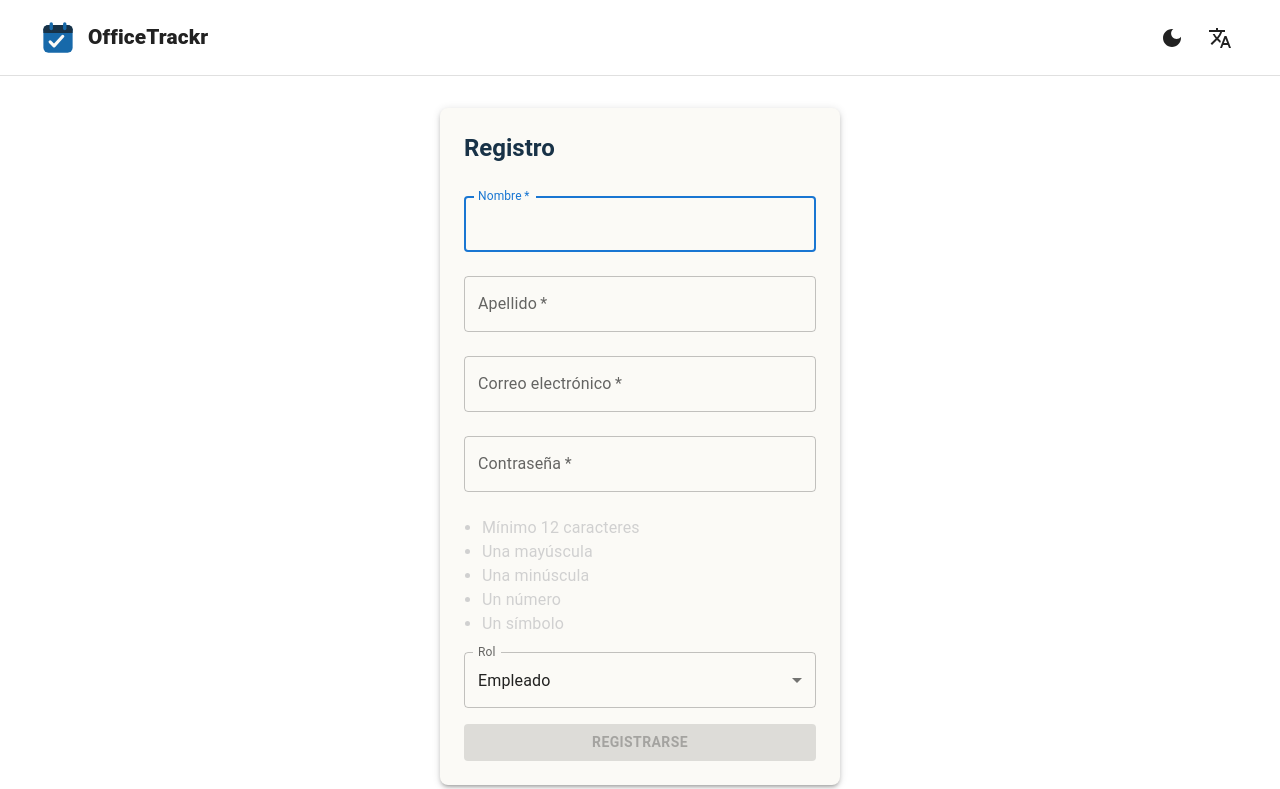
Test: Register › shows a mapped error message for a duplicate email (EM003)
This screenshot has width=1280, height=789.
In the field labelled "Nombre *": (640, 224) [464, 196, 816, 252], type "John"
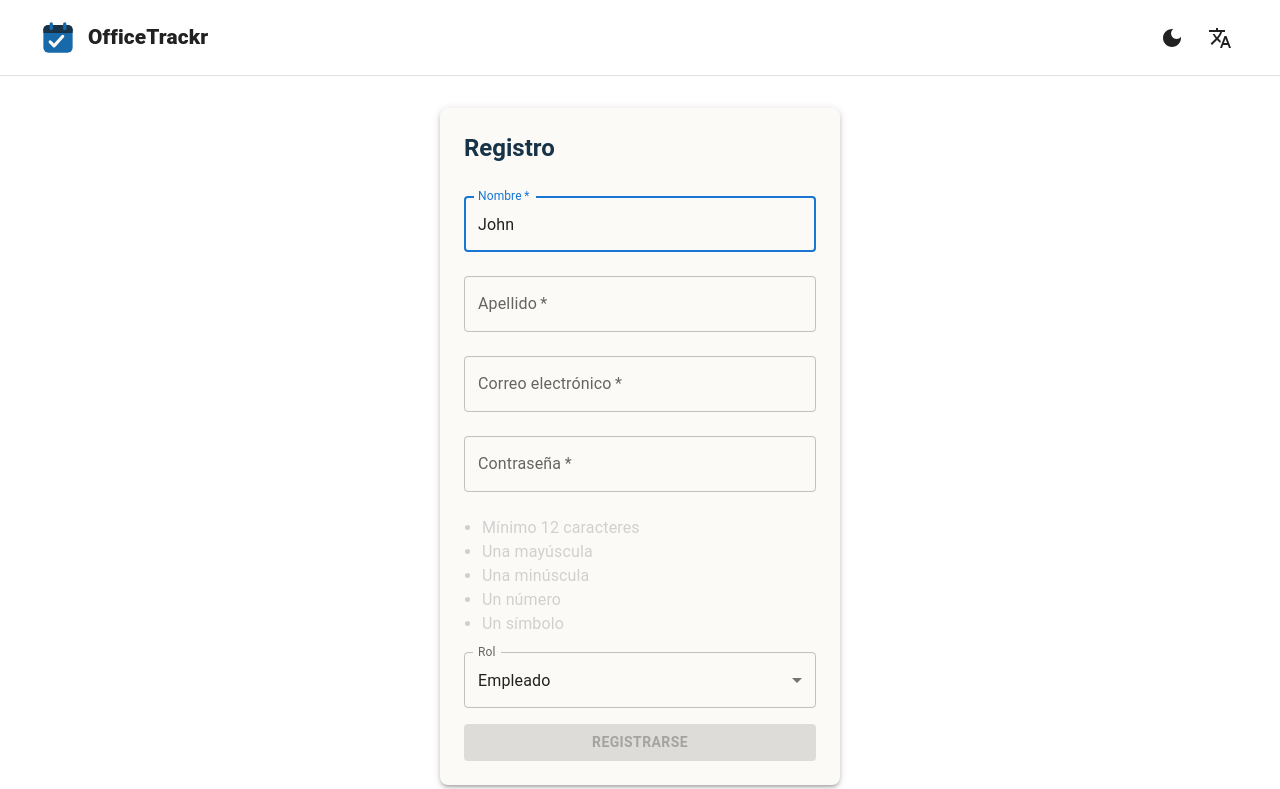
In the field labelled "Apellido *": (640, 304) [464, 276, 816, 332], type "Doe"
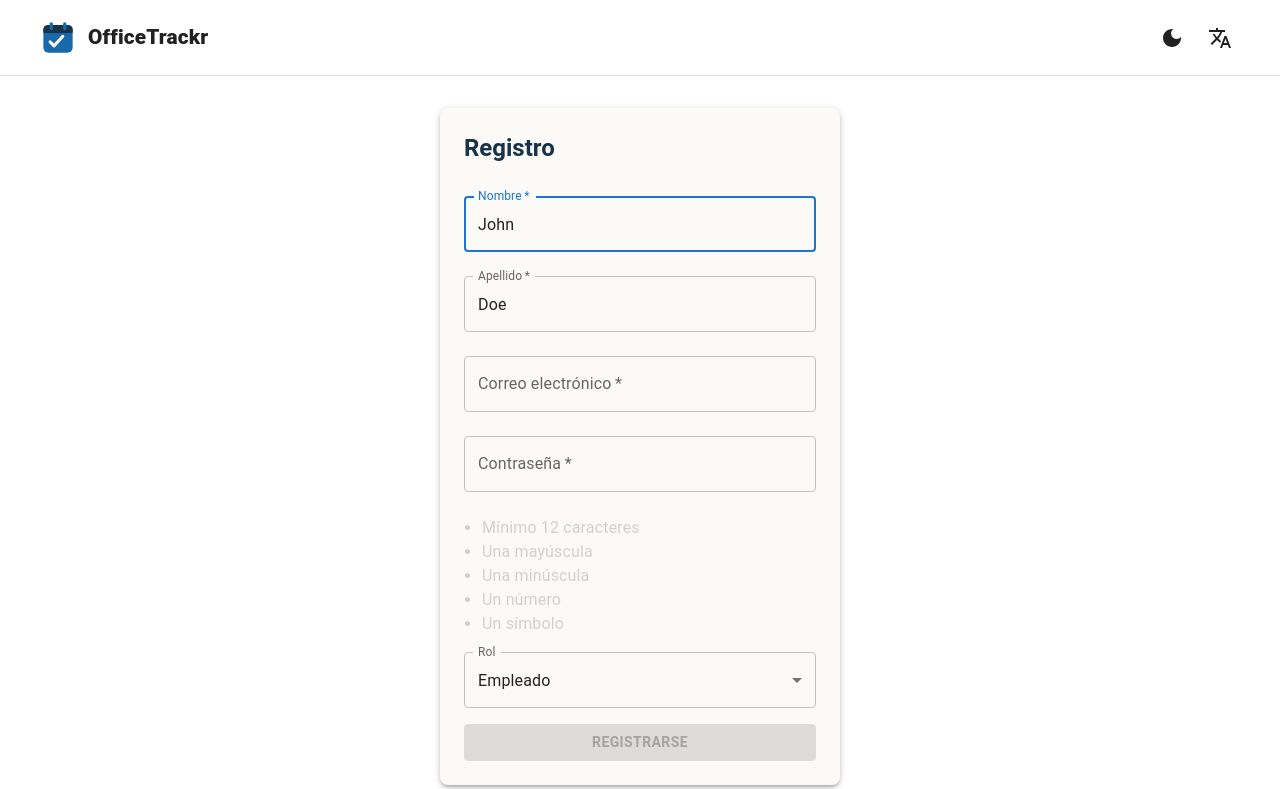
In the field labelled "Correo electrónico *": (640, 384) [464, 356, 816, 412], type "john@example.com"
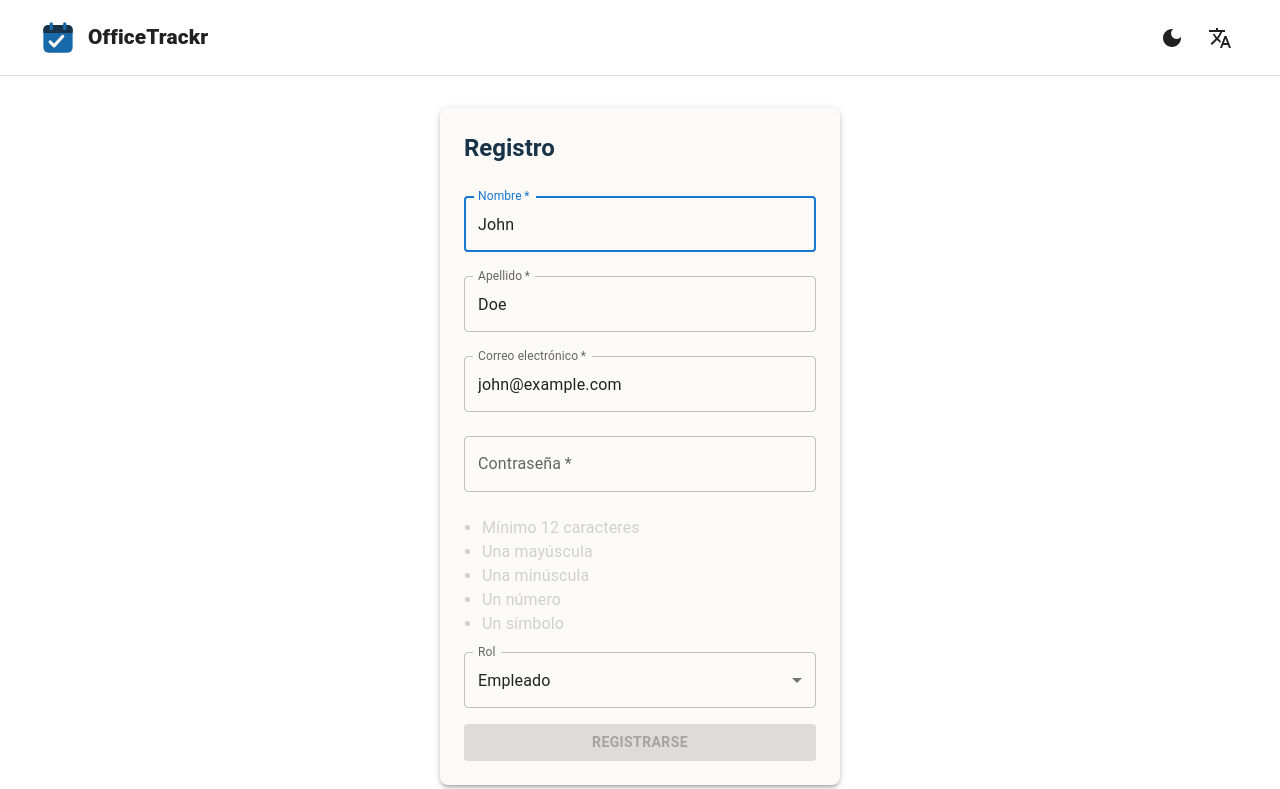
In the password field labelled "Contraseña *": (640, 464) [464, 436, 816, 492], type "Password123!!"
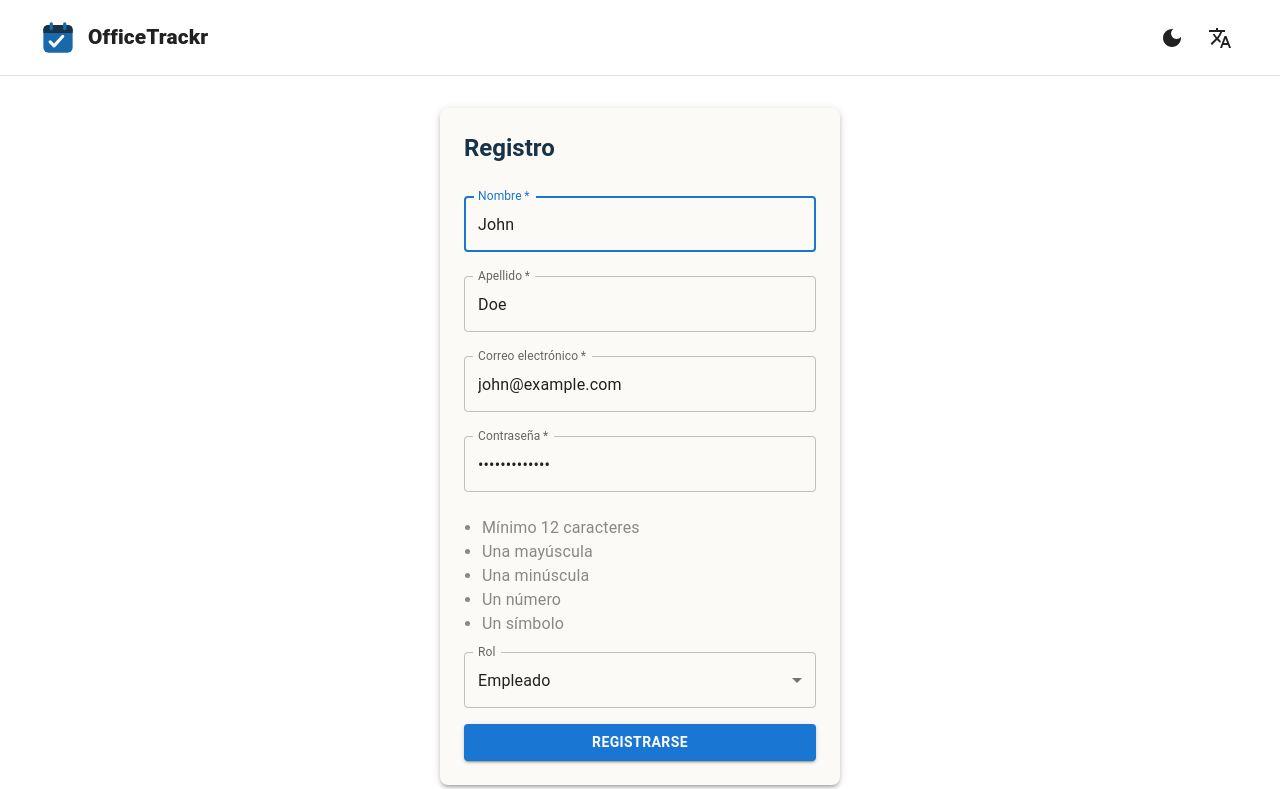
Click the button "Registrarse": (640, 742) [464, 724, 816, 760]
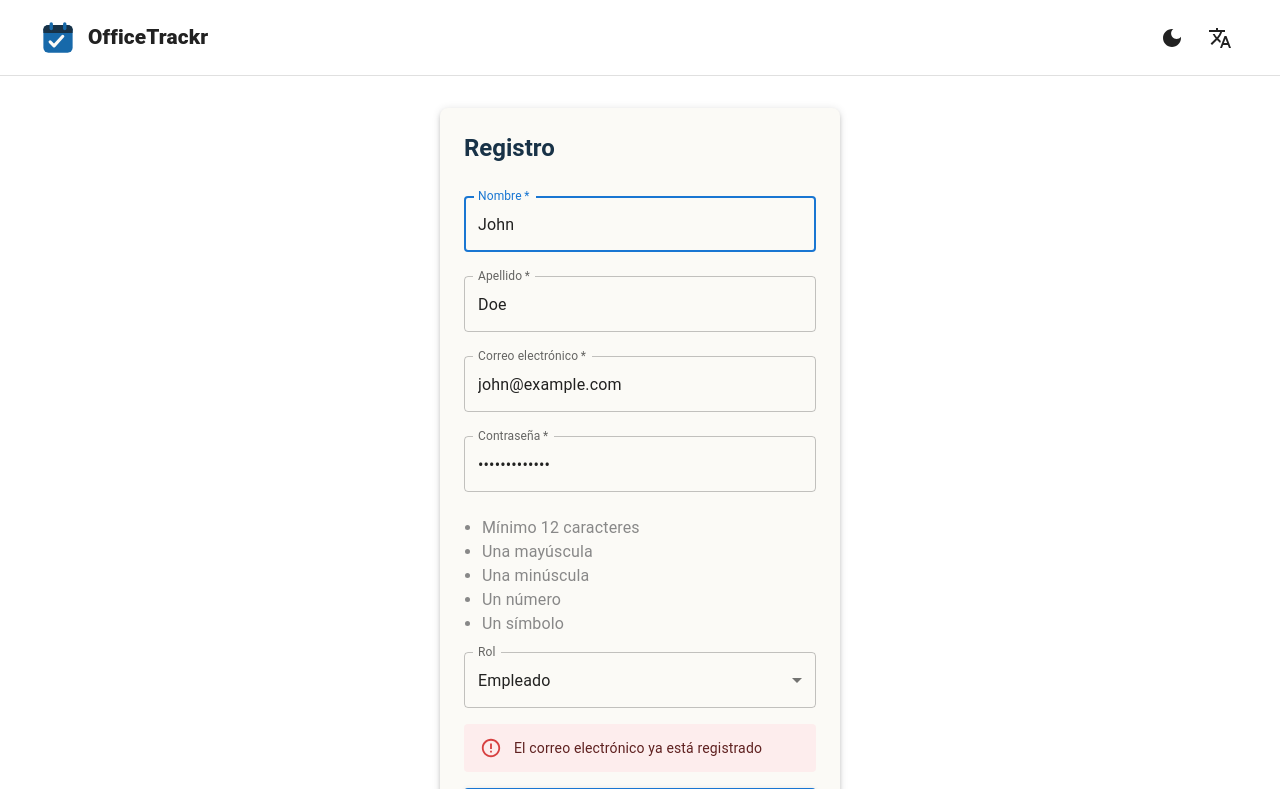
Expected: the text "El correo electrónico ya está registrado" is shown, [514, 740, 762, 756]
